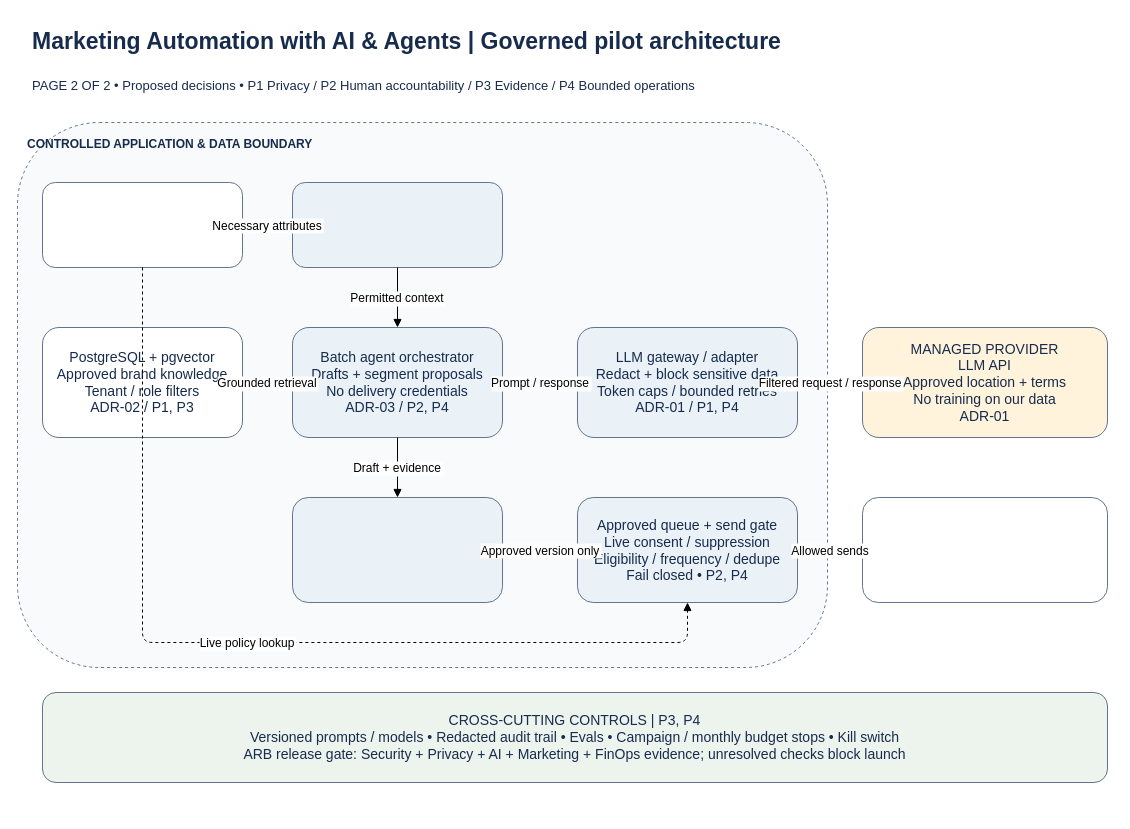
Some shapes in this 1130 by 829 pixel diagram are drawn without their labels. Each missing label, with the centre of its shape:
"CRM + consent ledger Identities stay here P1" goes at point (142, 225).
"Data policy gate Minimise / pseudonymise P1" goes at point (397, 225).
"Delivery platform Email / SMS / ads Customer-facing action" goes at point (985, 549).
"Human approval Bind content + audience version Edits require reapproval P2" goes at point (397, 549).
